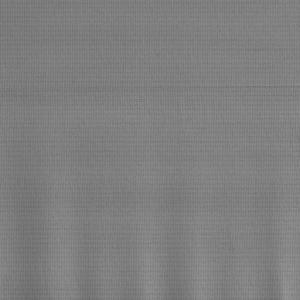Wrinkle: (1, 164, 300, 300), (1, 70, 300, 115), (164, 43, 300, 60)
